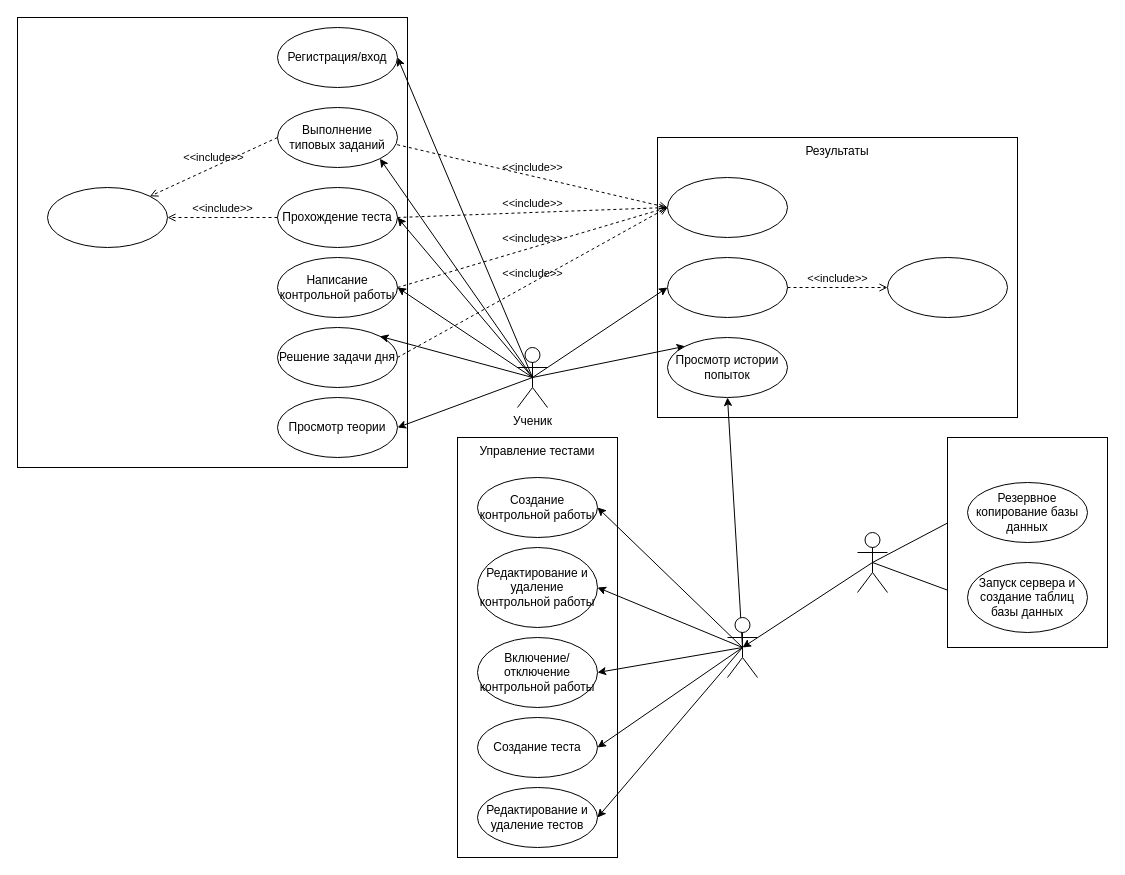
The diagram is 1125 pixels wide and 875 high, and some of its shapes have lost their labels. The shapes that lost their labels are listed below. From the top down, each one's box as (x1, y1, x2, y2) in pixels, then its label:
(46, 186, 168, 248): Выбор темы по классу
(666, 176, 788, 238): Сохранение результатов
(16, 16, 408, 468): Доступ и обучение
(666, 256, 788, 318): Скачивание отчета
(886, 256, 1008, 318): Формирование разбора попыток
(856, 532, 888, 592): Администратор
(946, 436, 1108, 648): Администрирование
(726, 616, 758, 678): Учитель
